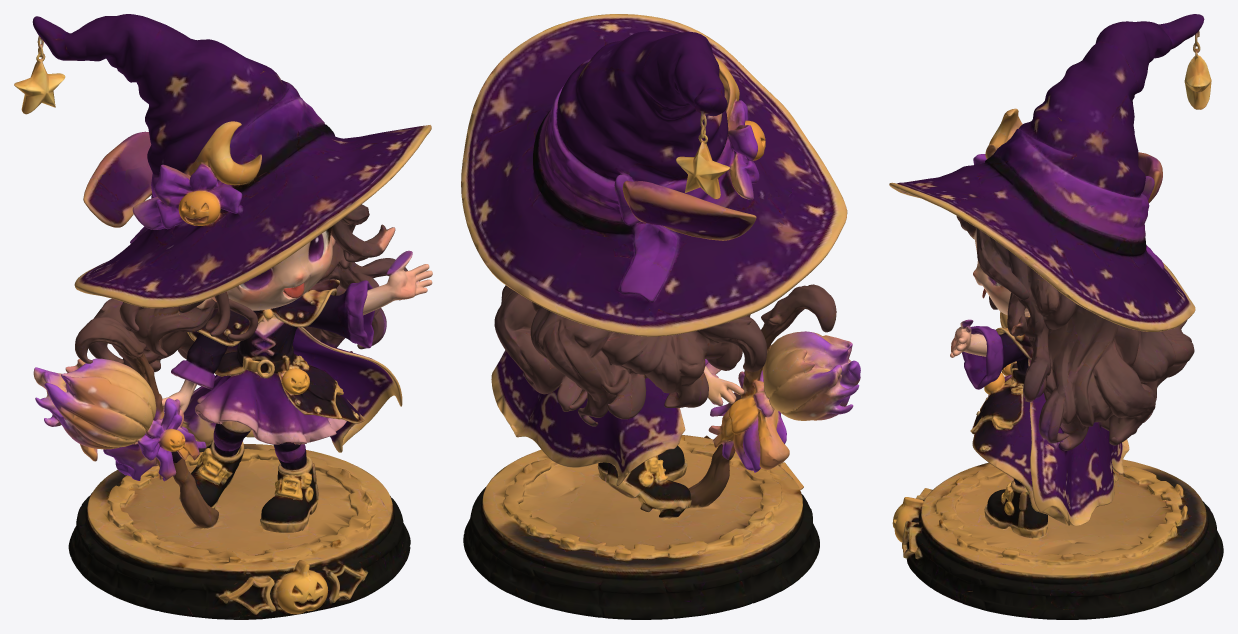
The model's file is hexie.glb.
The picture shows the model from 3 angles, left to right: view 1: azimuth 30°, elevation 25°; view 2: azimuth 150°, elevation 25°; view 3: azimuth 270°, elevation 25°; orthographic projection. The views are drawn at different scales.
Size of the model in its own units: 1.4 by 1.9 by 1.16.
1 material, 1 textured.
